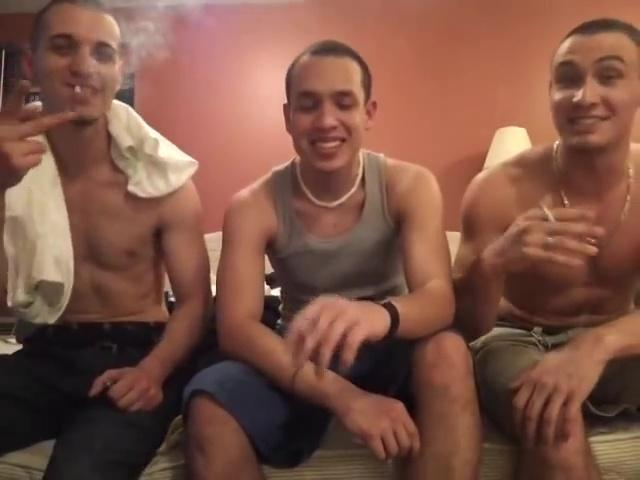cigarette: (75, 82, 83, 100)
